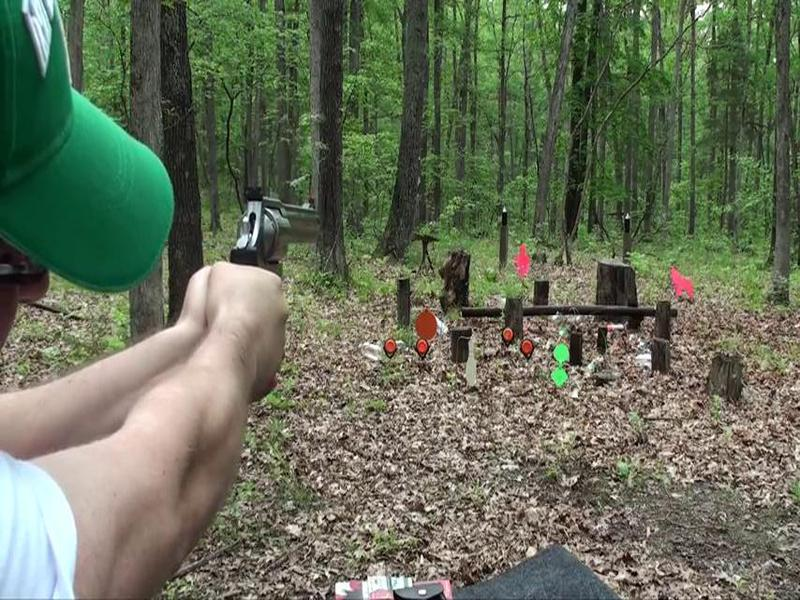Revolver: (205, 156, 346, 355)
